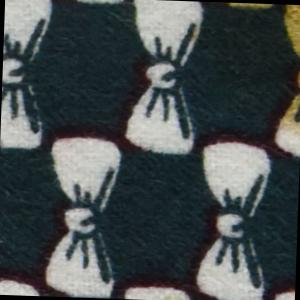Stain: (200, 3, 300, 141)
